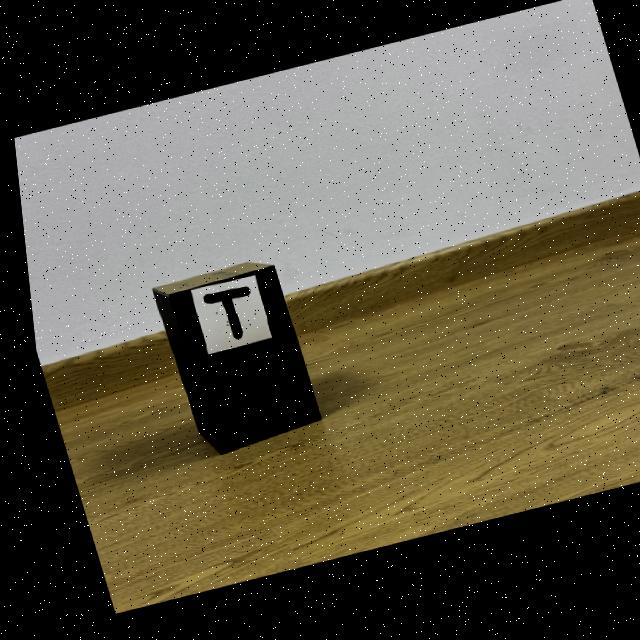T: (197, 288, 244, 341)
